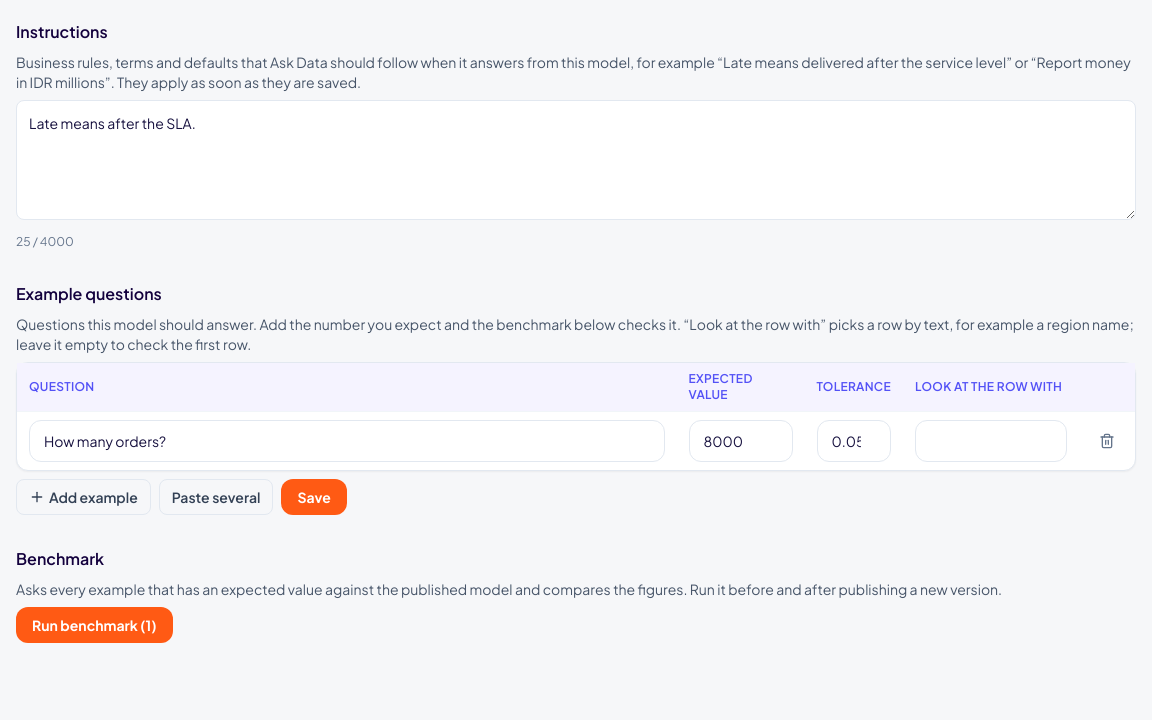
Test: SemanticQualityTabPanel › loads the saved instructions and examples and saves edits
The width and height of the screenshot is (1152, 720).
Replace the text in the text box named "Instructions" with "Report in IDR millions." at (576, 160), box [16, 100, 1136, 220]
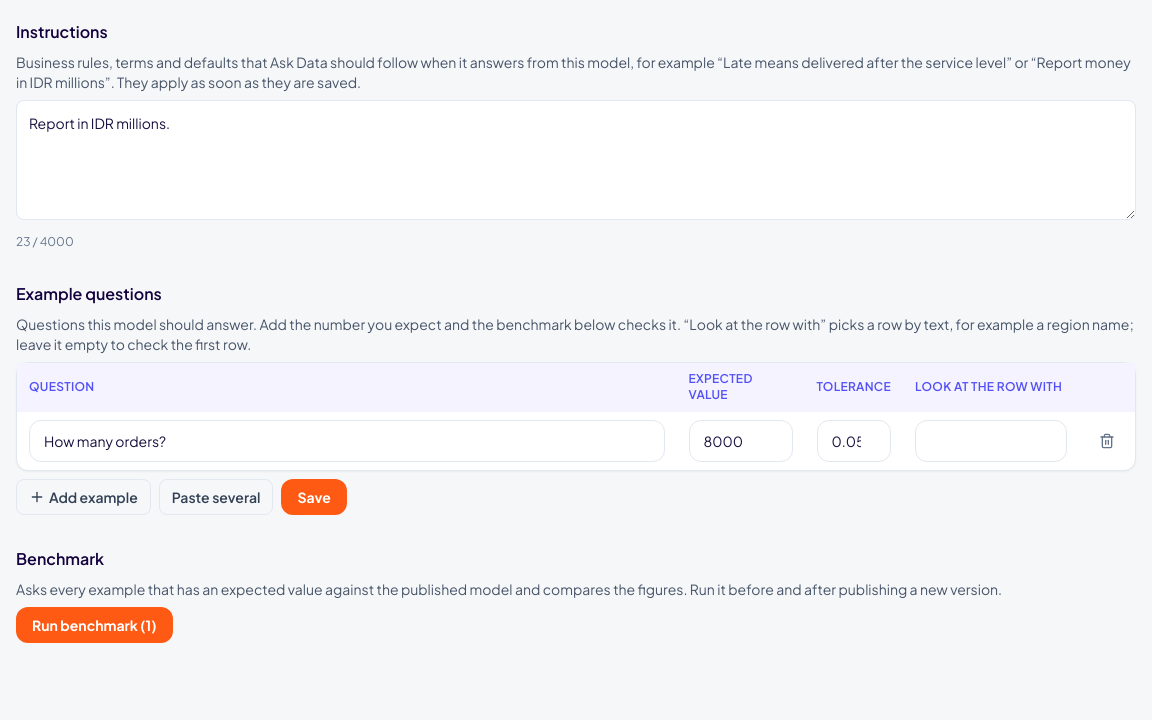
Click the button "Save" at (314, 497), box [282, 479, 347, 515]
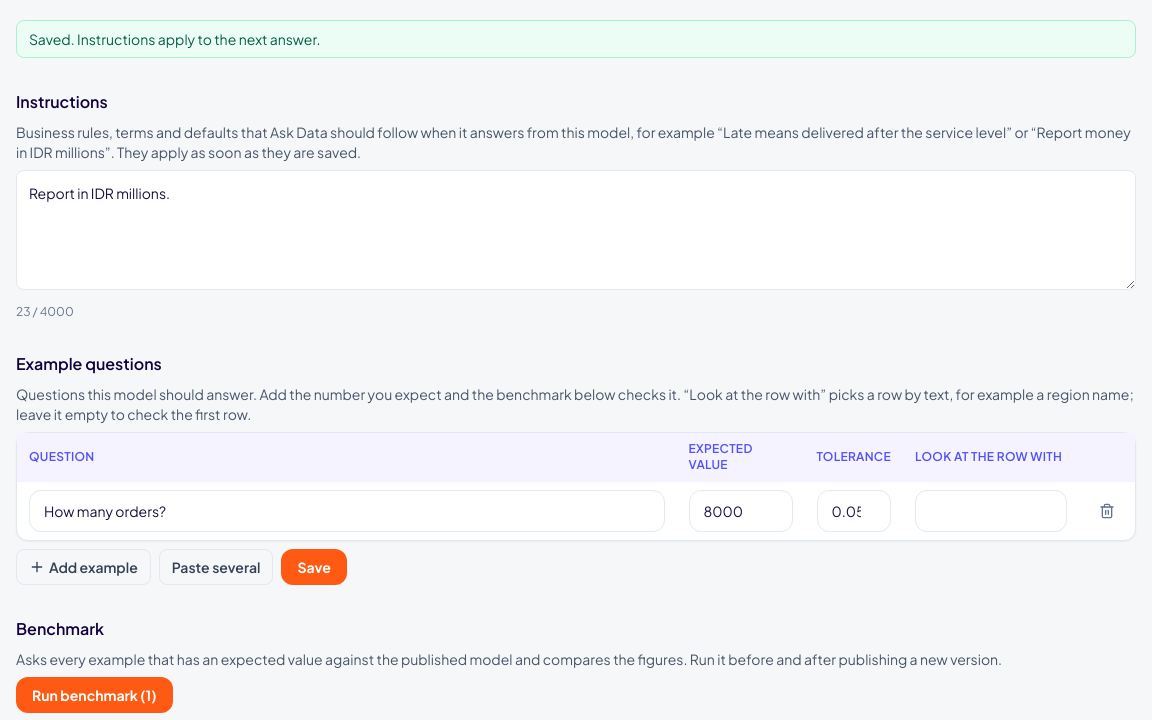
Check: the text "Saved. Instructions apply to the next answer." is shown, box [16, 20, 1136, 58]
